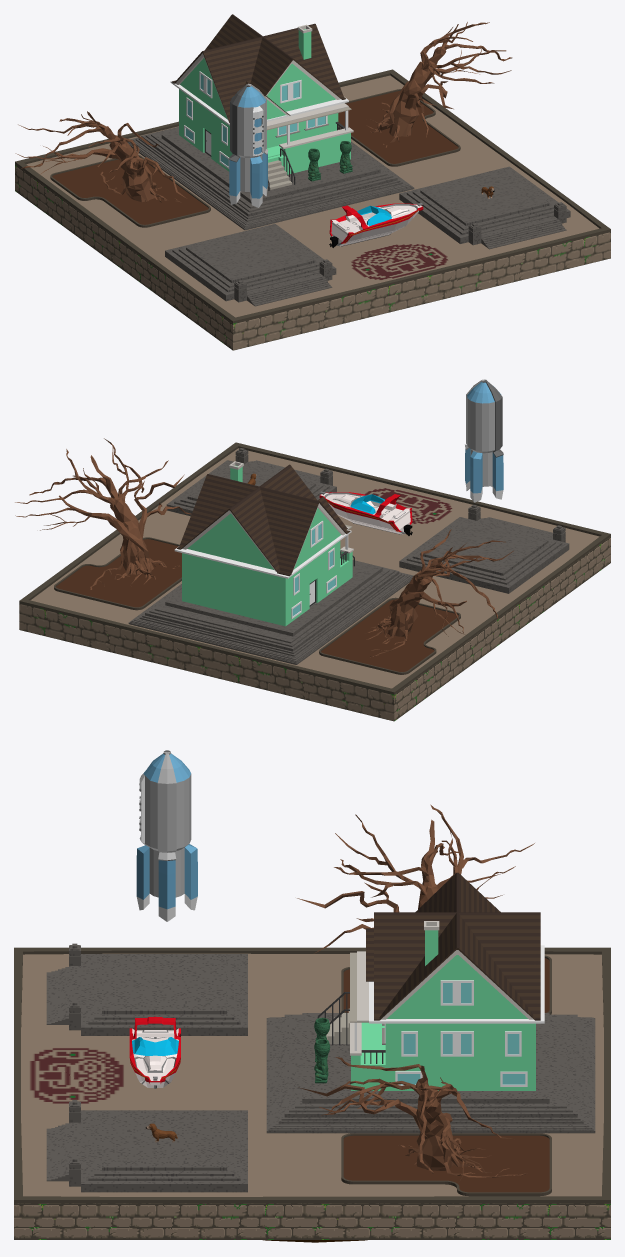
3 renders of one model, top to bottom at view 1: azimuth 30°, elevation 25°; view 2: azimuth 150°, elevation 25°; view 3: azimuth 270°, elevation 25°, orthographic. The views are drawn at different scales.
Visible parts, largest first — view 1: Cube.011, Cube.352, OBJRANDOM_ROCKETSHIP, VEHICLES_BOAT; view 2: Cube.011, Cube.352, OBJRANDOM_ROCKETSHIP, VEHICLES_BOAT; view 3: Cube.011, Cube.352, OBJRANDOM_ROCKETSHIP, VEHICLES_BOAT.
Boxes of the visible parts, x1=… form: Cube.011: x1=15, y1=22, x2=610, y2=350; Cube.352: x1=170, y1=14, x2=353, y2=190; OBJRANDOM_ROCKETSHIP: x1=229, y1=83, x2=268, y2=207; VEHICLES_BOAT: x1=329, y1=203, x2=423, y2=247; Cube.011: x1=15, y1=438, x2=610, y2=721; Cube.352: x1=174, y1=461, x2=354, y2=626; OBJRANDOM_ROCKETSHIP: x1=465, y1=379, x2=503, y2=502; VEHICLES_BOAT: x1=319, y1=491, x2=412, y2=535; Cube.011: x1=14, y1=804, x2=610, y2=1239; Cube.352: x1=317, y1=872, x2=544, y2=1090; OBJRANDOM_ROCKETSHIP: x1=136, y1=750, x2=197, y2=921; VEHICLES_BOAT: x1=129, y1=1016, x2=180, y2=1088.
Size of the model in its own units: 5099 by 2242 by 4000.
36 materials, 5 textured.
